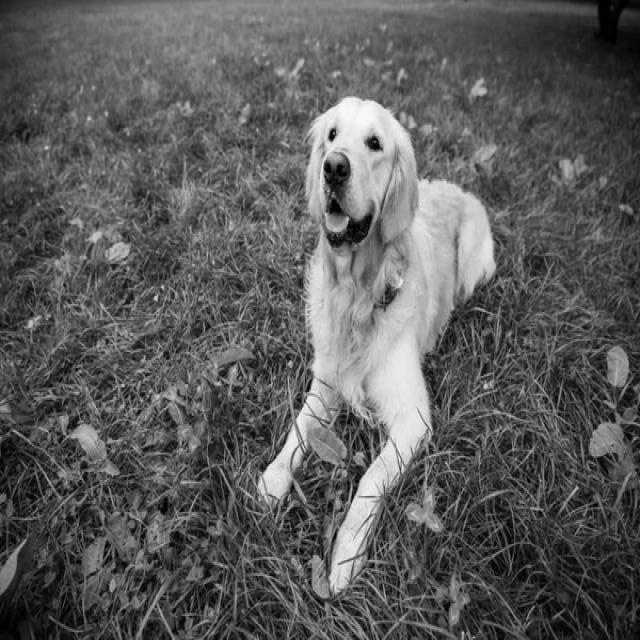Animal: (259, 96, 496, 594)
